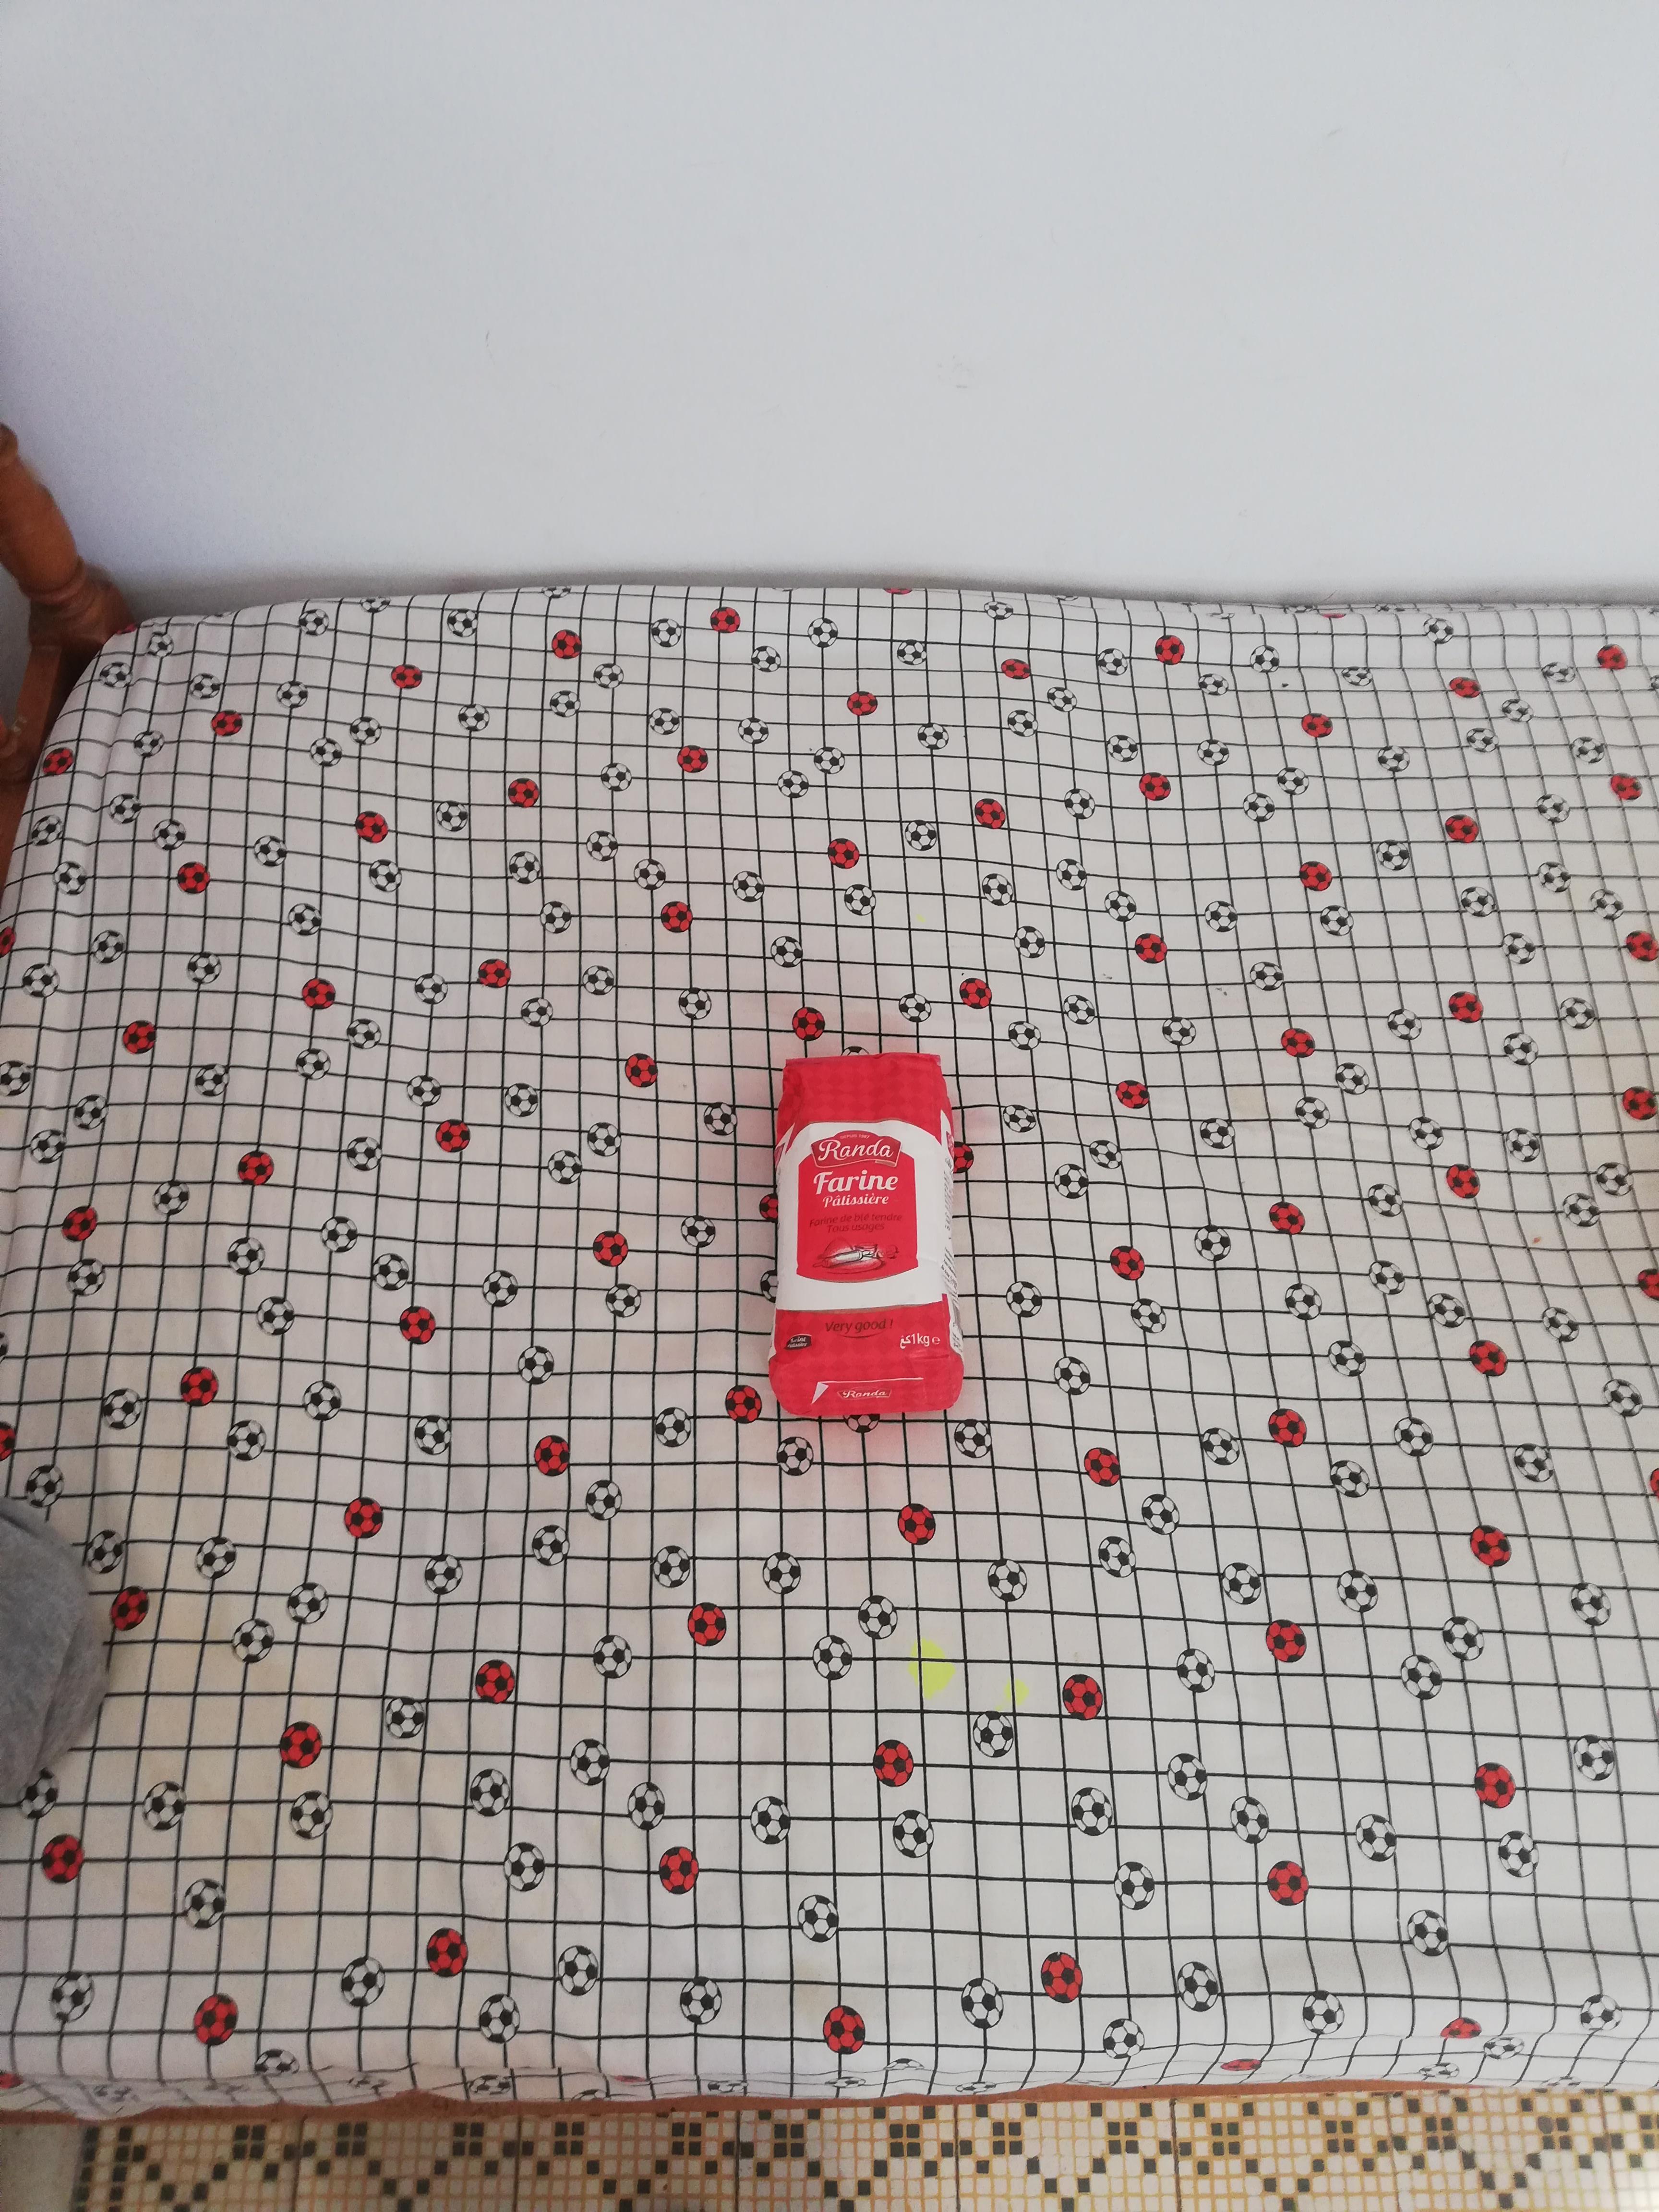Farine Randa: (765, 1054, 964, 1421)
